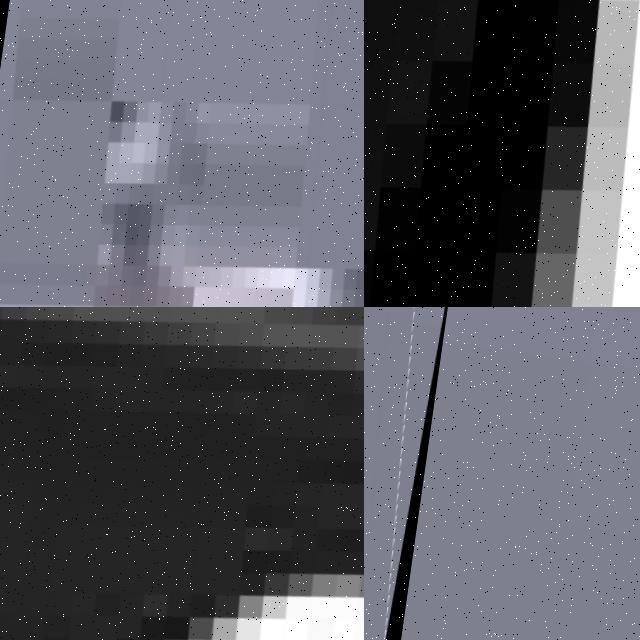drone: (0, 307, 364, 640), (0, 0, 364, 307), (364, 0, 640, 307), (364, 307, 455, 640)
